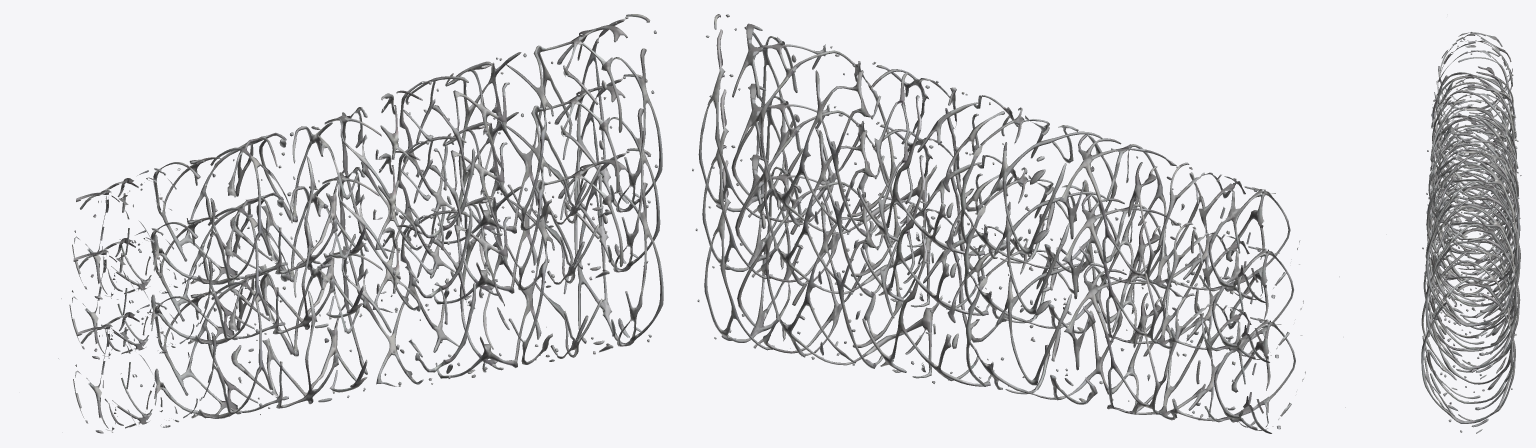
The model's file is kawat_berduri.glb.
The picture shows the model from 3 angles, left to right: view 1: azimuth 30°, elevation 25°; view 2: azimuth 150°, elevation 25°; view 3: azimuth 270°, elevation 25°; orthographic projection. The views are drawn at different scales.
Visible parts, largest first — view 1: tripo_node_ea93be57.002; view 2: tripo_node_ea93be57.002; view 3: tripo_node_ea93be57.002.
Boxes of the visible parts, x1=… form: tripo_node_ea93be57.002: x1=58, y1=14, x2=663, y2=433; tripo_node_ea93be57.002: x1=692, y1=14, x2=1345, y2=433; tripo_node_ea93be57.002: x1=1421, y1=14, x2=1521, y2=433.
Size of the model in its own units: 0.7154 by 0.3361 by 0.1277.
Materials: 1 (1 with a texture image).
